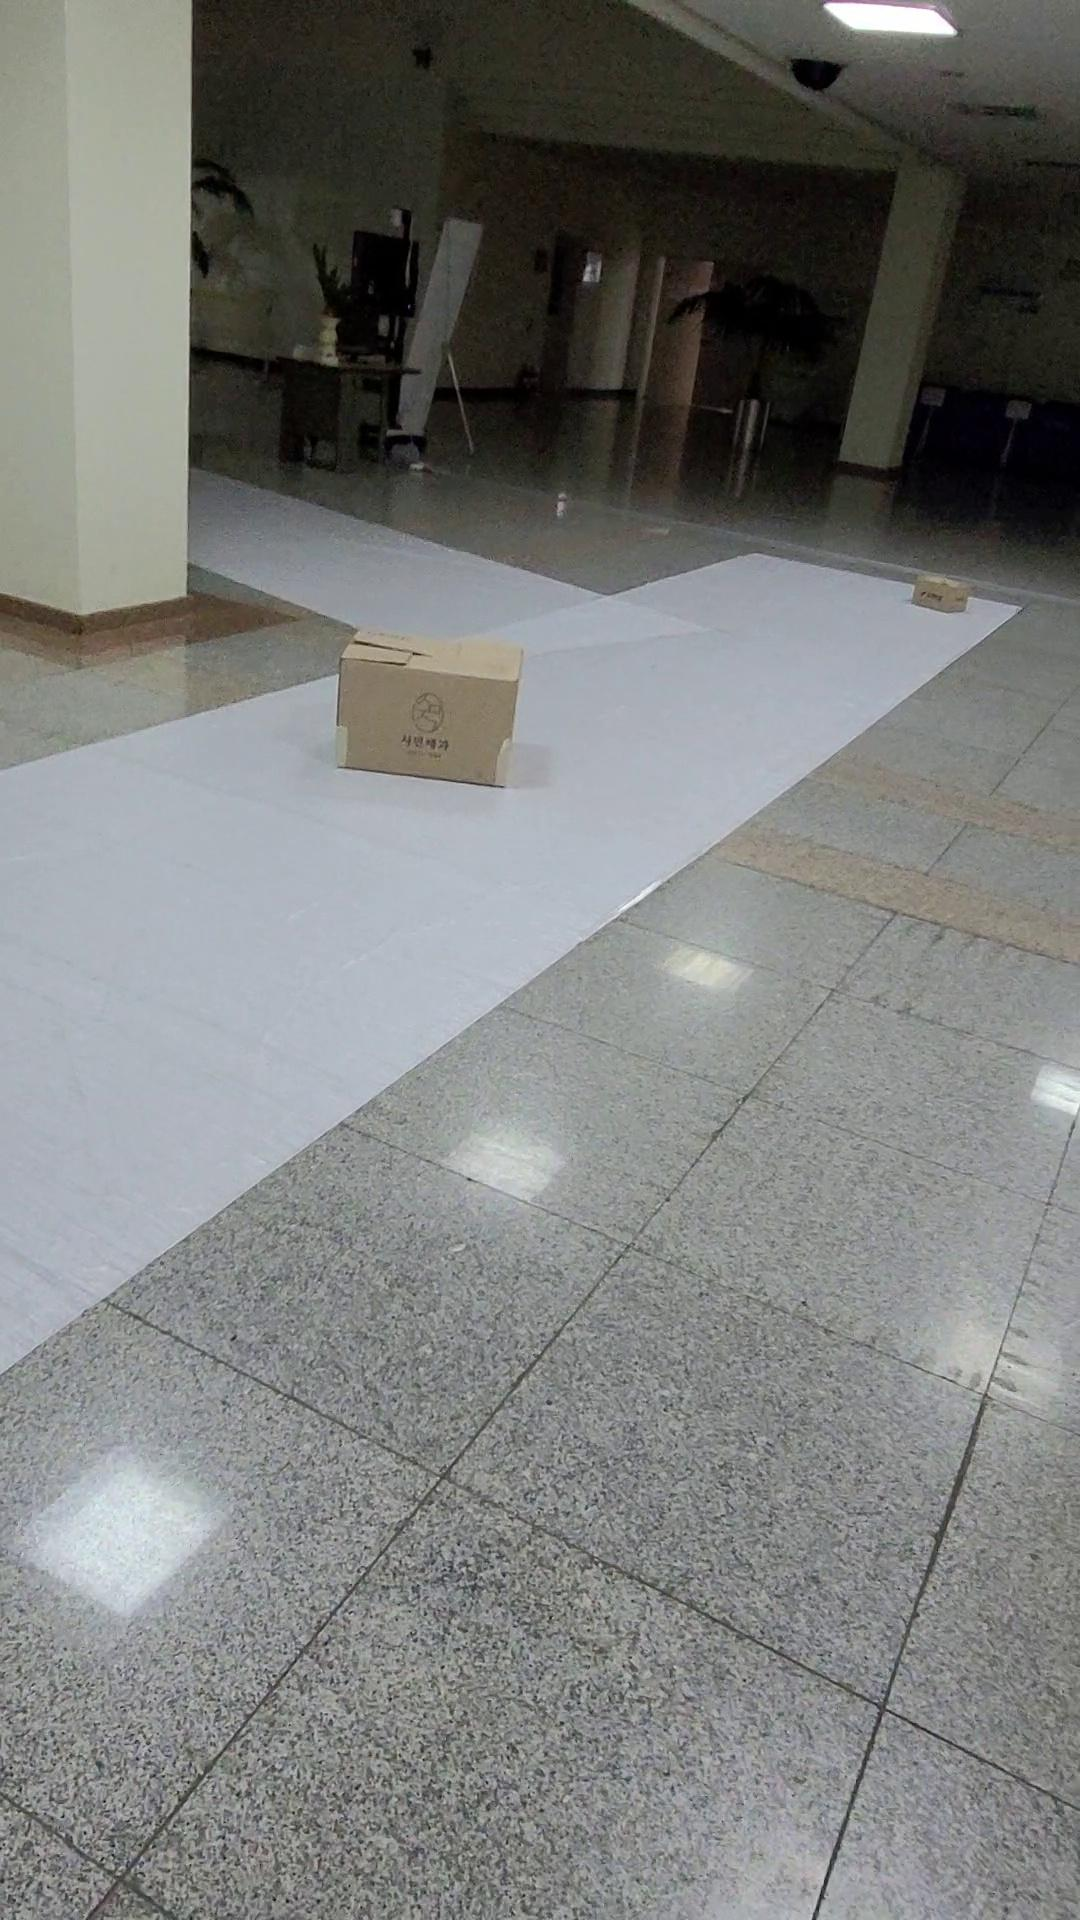Box: (293, 585, 562, 820), (881, 541, 977, 630)
